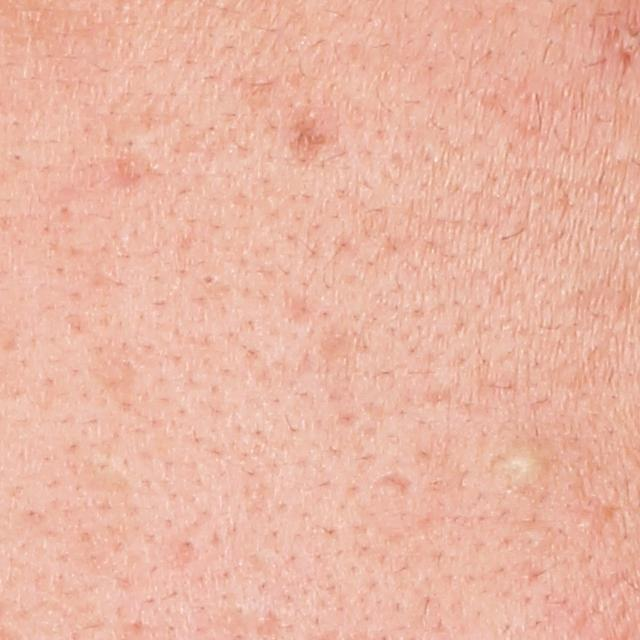atrophic_scar: (369, 468, 416, 495)
comedo: (491, 444, 549, 494), (197, 271, 216, 286)
